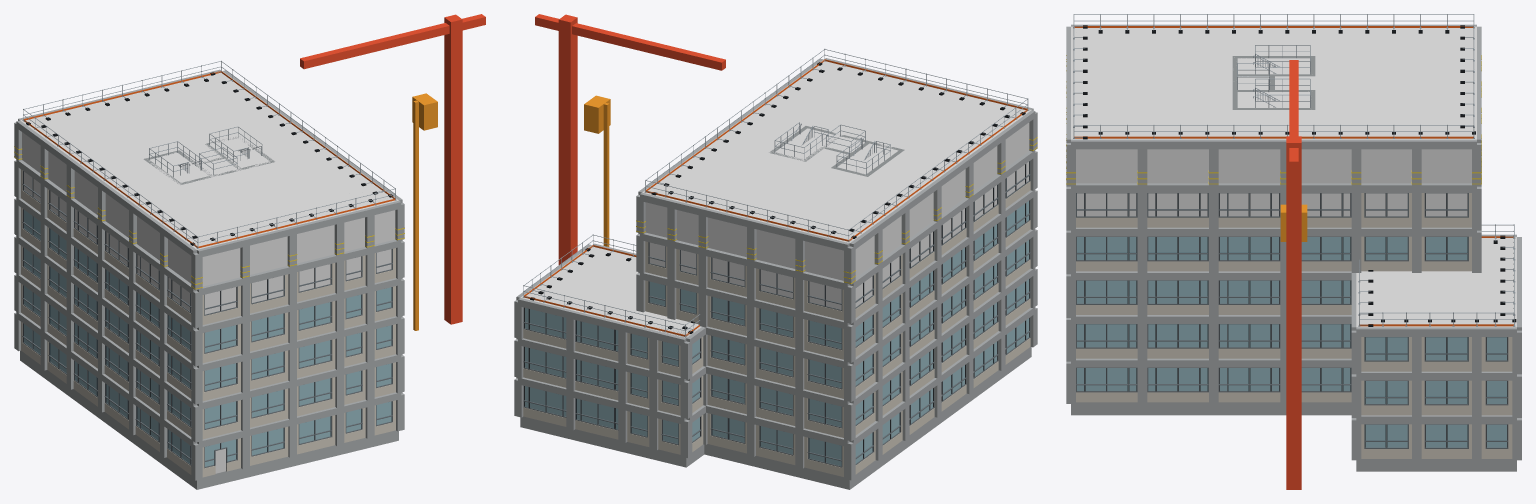
Rendered from 88Complete.fbx.
3 renders of one model, left to right at view 1: azimuth 30°, elevation 25°; view 2: azimuth 150°, elevation 25°; view 3: azimuth 270°, elevation 25°, orthographic. The views are drawn at different scales.
Visible parts, largest first — view 1: HRG_Block_Building, Tower block; view 2: HRG_Block_Building, Tower block, Lower wing; view 3: HRG_Block_Building, Tower block, Lower wing.
Boxes of the visible parts, x1,y1,x2,y2 form: HRG_Block_Building: [14, 14, 485, 489]; Tower block: [20, 71, 398, 473]; HRG_Block_Building: [514, 14, 1037, 489]; Tower block: [642, 59, 1031, 465]; Lower wing: [520, 245, 701, 443]; HRG_Block_Building: [1066, 14, 1521, 489]; Tower block: [1071, 26, 1476, 390]; Lower wing: [1356, 237, 1516, 447].
Size of the model in its own units: 3837 by 2970 by 3405.
